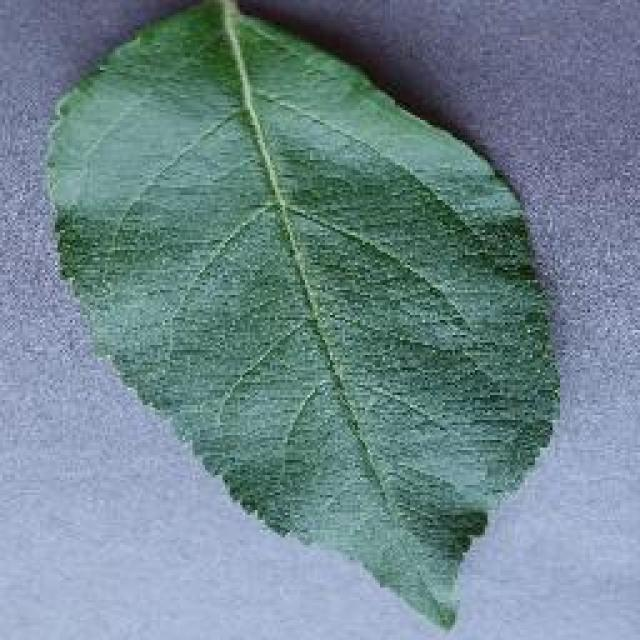apple healthy: (40, 0, 562, 630)
